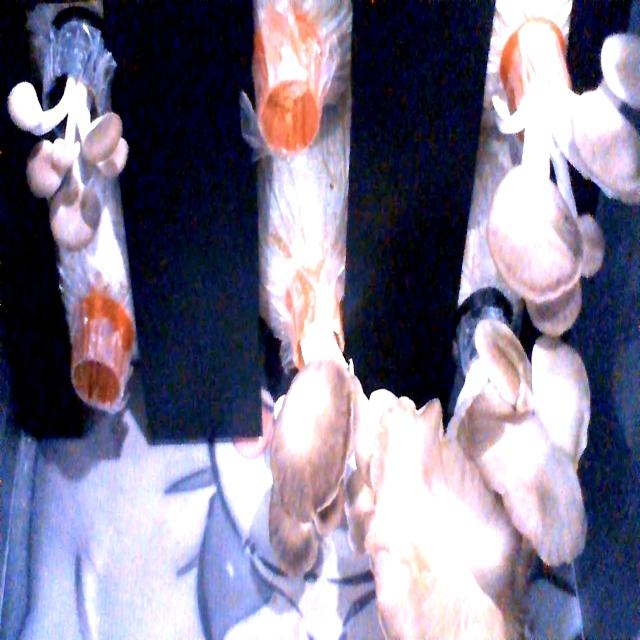big: (363, 310, 614, 640), (462, 16, 640, 346), (247, 348, 414, 578)
nfound: (60, 338, 145, 441), (255, 72, 332, 168)
small: (3, 58, 149, 248)
